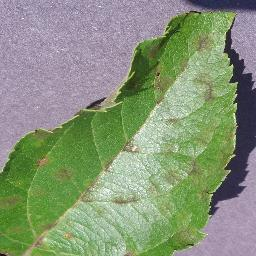apple healthy: (0, 8, 240, 255)
